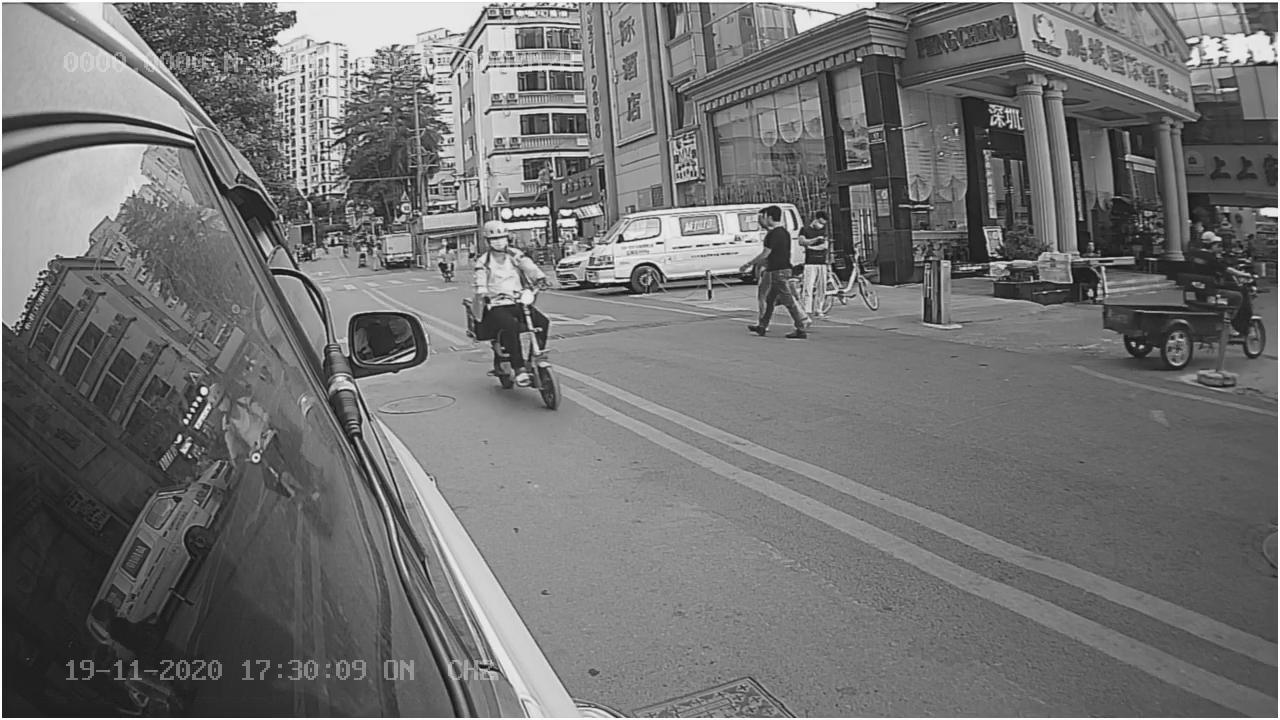person: (460, 219, 547, 294)
